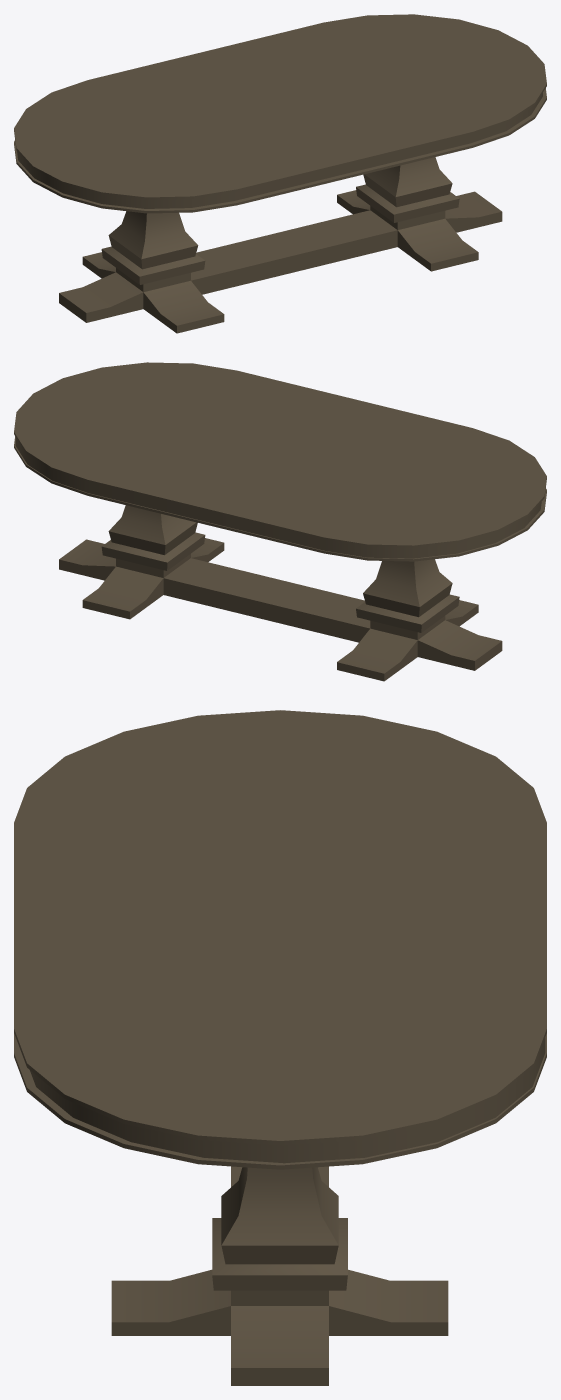
The model's file is table.glb.
3 renders of one model, top to bottom at view 1: azimuth 30°, elevation 25°; view 2: azimuth 150°, elevation 25°; view 3: azimuth 270°, elevation 25°, orthographic. The views are drawn at different scales.
Visible parts, largest first — view 1: Table_RoundLarge; view 2: Table_RoundLarge; view 3: Table_RoundLarge.
Part boxes in pixels (left/top/right/bottom): Table_RoundLarge: left=14, top=14, right=546, bottom=333; Table_RoundLarge: left=14, top=362, right=546, bottom=681; Table_RoundLarge: left=14, top=710, right=546, bottom=1385.
Bounding box in the file's own units: 3.71 × 1.12 × 1.94.
